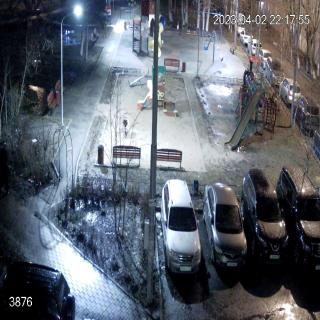Car: (240, 168, 290, 266), (276, 165, 320, 272), (0, 260, 76, 320), (202, 182, 248, 271), (160, 178, 202, 275), (294, 95, 320, 135), (264, 56, 284, 87), (280, 78, 301, 106), (258, 49, 272, 69), (311, 130, 320, 161), (248, 38, 262, 56), (240, 30, 253, 48)
